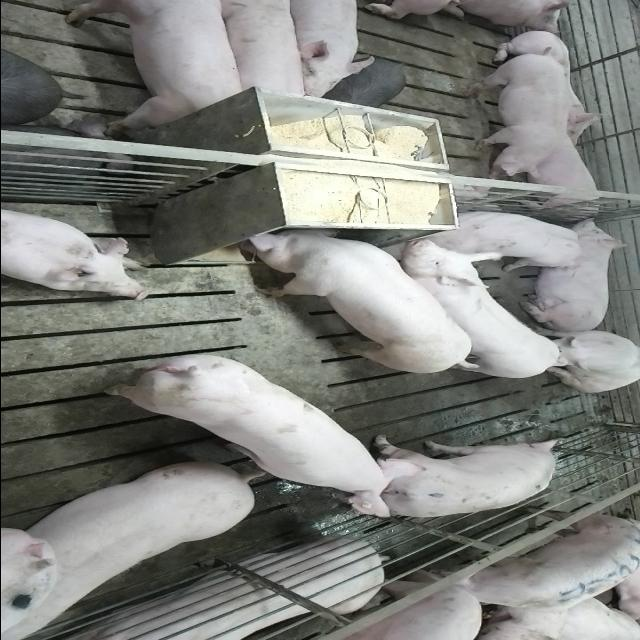Feeding: (235, 219, 478, 370)
Sitting: (531, 328, 639, 392)
Standing: (94, 348, 390, 512), (7, 458, 263, 634), (53, 1, 250, 135), (388, 241, 562, 385), (424, 514, 640, 616), (362, 434, 566, 520), (458, 54, 564, 184), (210, 3, 306, 104), (285, 0, 371, 100)
Sternal_lying: (0, 204, 150, 298), (484, 29, 608, 140), (516, 218, 628, 328), (516, 134, 604, 212)
